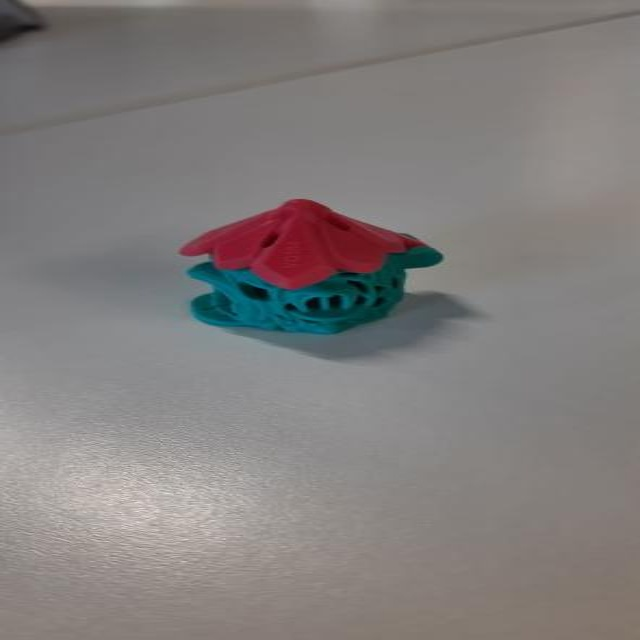House: (156, 185, 503, 361)
